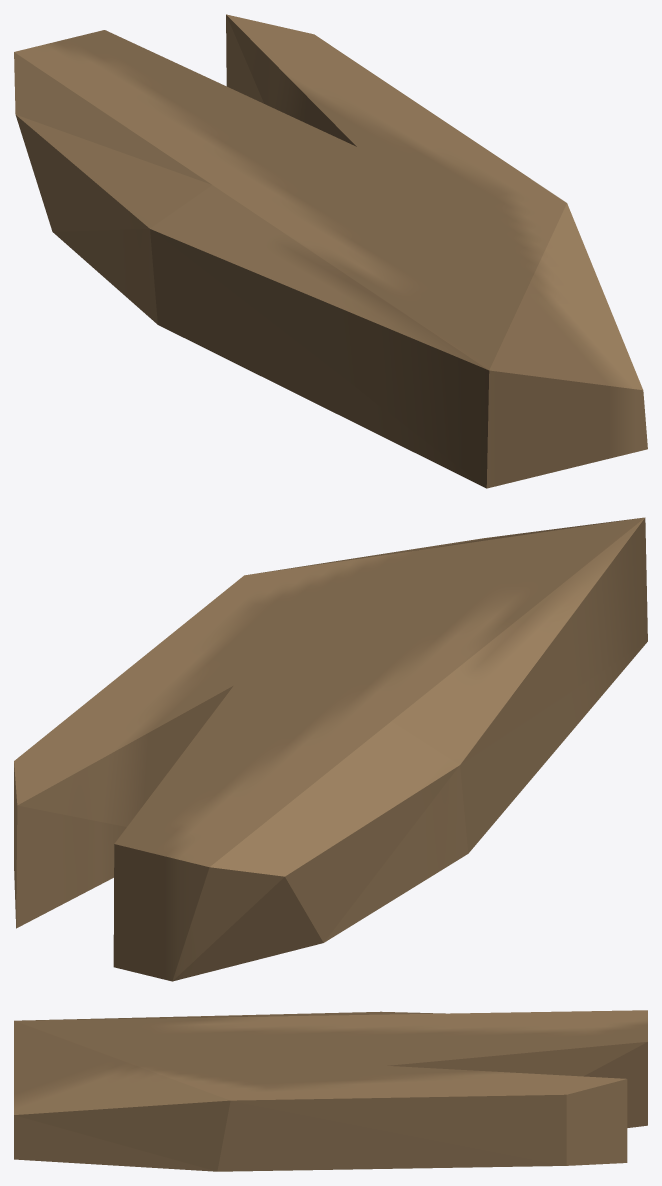
File: SM_FX_Wood_Shard_04.fbx
3 renders of one model, top to bottom at view 1: azimuth 30°, elevation 25°; view 2: azimuth 150°, elevation 25°; view 3: azimuth 270°, elevation 25°, orthographic. The views are drawn at different scales.
Visible parts, largest first — view 1: SM_FX_Wood_Shard_04; view 2: SM_FX_Wood_Shard_04; view 3: SM_FX_Wood_Shard_04.
Part boxes in pixels (<box>): SM_FX_Wood_Shard_04: <box>14,14,647,488</box>; SM_FX_Wood_Shard_04: <box>14,517,647,981</box>; SM_FX_Wood_Shard_04: <box>14,1010,647,1171</box>.
Bounding box in the file's own units: 18.33 × 6.61 × 45.39.
